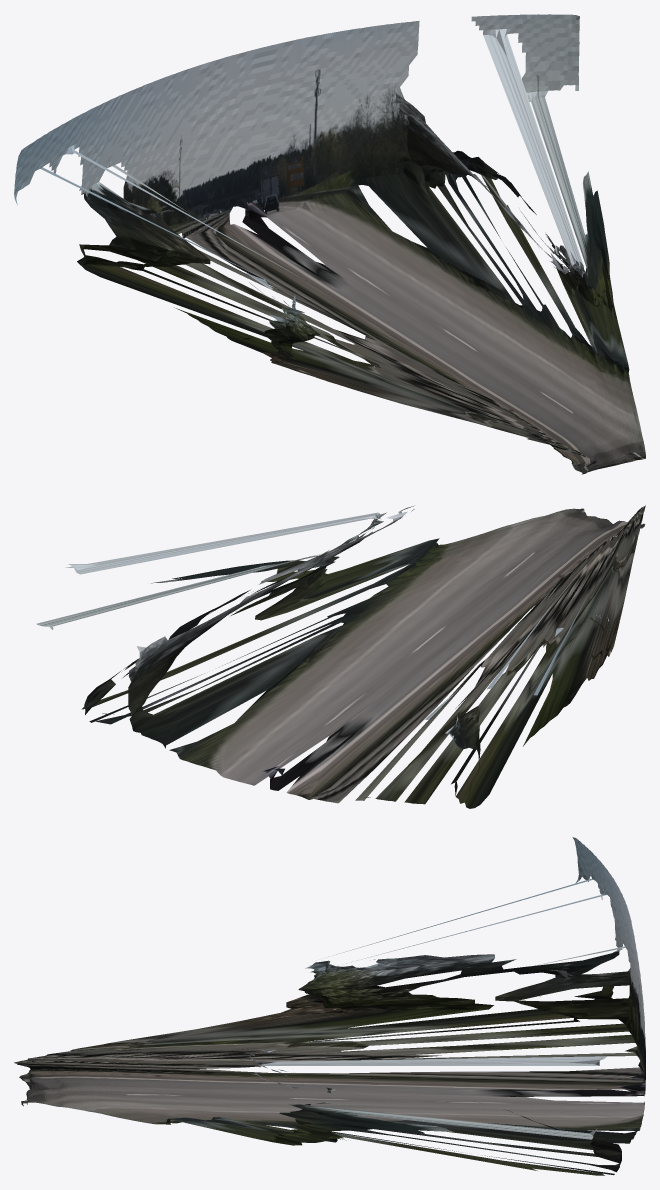
3 renders of one model, top to bottom at view 1: azimuth 30°, elevation 25°; view 2: azimuth 150°, elevation 25°; view 3: azimuth 270°, elevation 25°, orthographic. The views are drawn at different scales.
Parts seen in each view (by area): view 1: defaultobject; view 2: defaultobject; view 3: defaultobject.
Part boxes in pixels (bbox=[...]): defaultobject: bbox=[14, 14, 645, 474]; defaultobject: bbox=[36, 505, 645, 808]; defaultobject: bbox=[14, 837, 645, 1175].
Bounding box in the file's own units: 40.95 × 12.44 × 45.05.
1 material, 1 textured.
